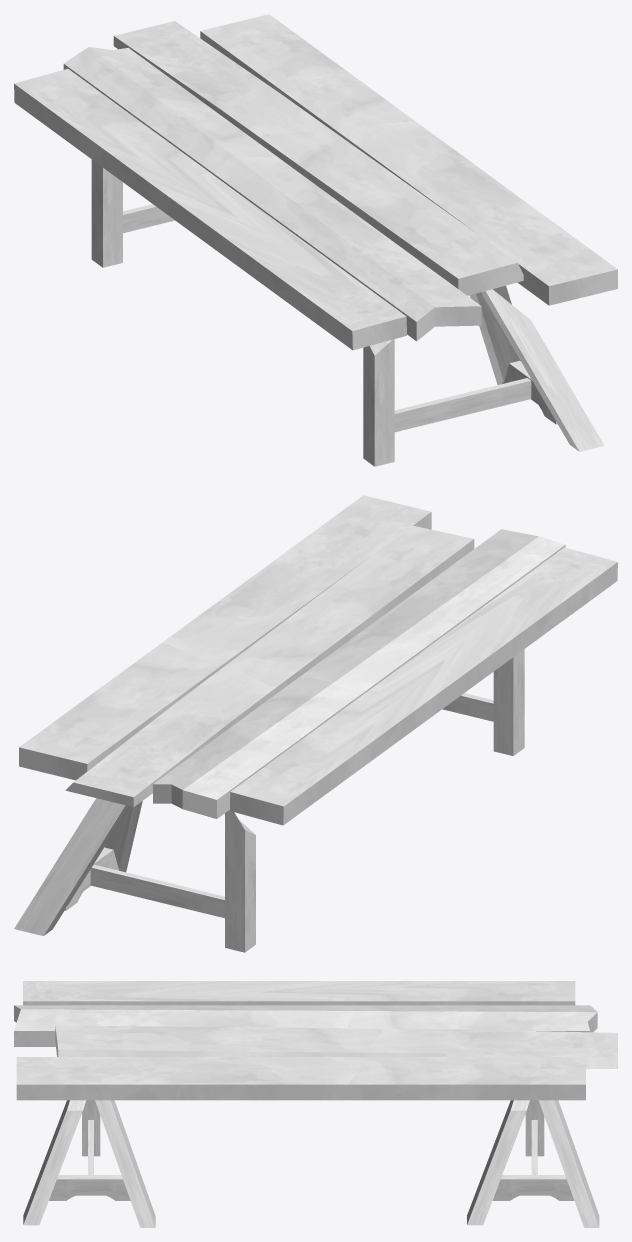
Rendered from Table_break.fbx.
The picture shows the model from 3 angles, top to bottom: view 1: azimuth 30°, elevation 25°; view 2: azimuth 150°, elevation 25°; view 3: azimuth 270°, elevation 25°; orthographic projection. The views are drawn at different scales.
Parts seen in each view (by area): view 1: polySurface193, polySurface197, polySurface190, polySurface194, polySurface207, polySurface195, polySurface196, polySurface191, polySurface192, polySurface203, polySurface200, polySurface208; view 2: polySurface193, polySurface197, polySurface190, polySurface195, polySurface194, polySurface208, polySurface196, polySurface191, polySurface192, polySurface203, polySurface207; view 3: polySurface194, polySurface195, polySurface193, polySurface197, polySurface191, polySurface208, polySurface190, polySurface196, polySurface207, polySurface192, polySurface200, polySurface203.
Part boxes in pixels (x1=…): polySurface193: x1=219, y1=93, x2=523, y2=295; polySurface197: x1=14, y1=69, x2=316, y2=264; polySurface190: x1=63, y1=47, x2=434, y2=341; polySurface194: x1=374, y1=142, x2=617, y2=305; polySurface207: x1=363, y1=289, x2=604, y2=466; polySurface195: x1=200, y1=14, x2=442, y2=160; polySurface196: x1=183, y1=193, x2=406, y2=350; polySurface191: x1=113, y1=48, x2=481, y2=326; polySurface192: x1=113, y1=21, x2=279, y2=113; polySurface203: x1=91, y1=159, x2=122, y2=267; polySurface200: x1=469, y1=285, x2=520, y2=384; polySurface208: x1=123, y1=204, x2=174, y2=233; polySurface193: x1=177, y1=525, x2=474, y2=721; polySurface197: x1=230, y1=606, x2=503, y2=825; polySurface190: x1=171, y1=536, x2=565, y2=818; polySurface195: x1=19, y1=621, x2=259, y2=780; polySurface194: x1=191, y1=495, x2=431, y2=639; polySurface208: x1=14, y1=798, x2=224, y2=935; polySurface196: x1=399, y1=547, x2=617, y2=702; polySurface191: x1=153, y1=529, x2=538, y2=803; polySurface192: x1=65, y1=698, x2=238, y2=807; polySurface203: x1=225, y1=810, x2=255, y2=952; polySurface207: x1=442, y1=649, x2=524, y2=755; polySurface194: x1=16, y1=1057, x2=315, y2=1100; polySurface195: x1=301, y1=1057, x2=585, y2=1100; polySurface193: x1=55, y1=1025, x2=446, y2=1056; polySurface197: x1=147, y1=981, x2=575, y2=1005; polySurface191: x1=14, y1=1009, x2=589, y2=1046; polySurface208: x1=467, y1=1100, x2=599, y2=1227; polySurface190: x1=14, y1=1005, x2=597, y2=1032; polySurface196: x1=23, y1=981, x2=299, y2=1005; polySurface207: x1=23, y1=1100, x2=130, y2=1225; polySurface192: x1=430, y1=1029, x2=617, y2=1068; polySurface200: x1=95, y1=1100, x2=155, y2=1227; polySurface203: x1=525, y1=1100, x2=544, y2=1156.
Bounding box in the file's own units: 1.84 × 1.23 × 4.51.
